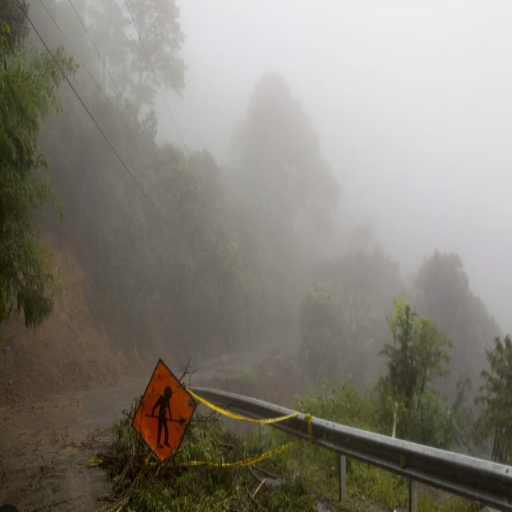Work in Progress: (107, 344, 206, 465)
